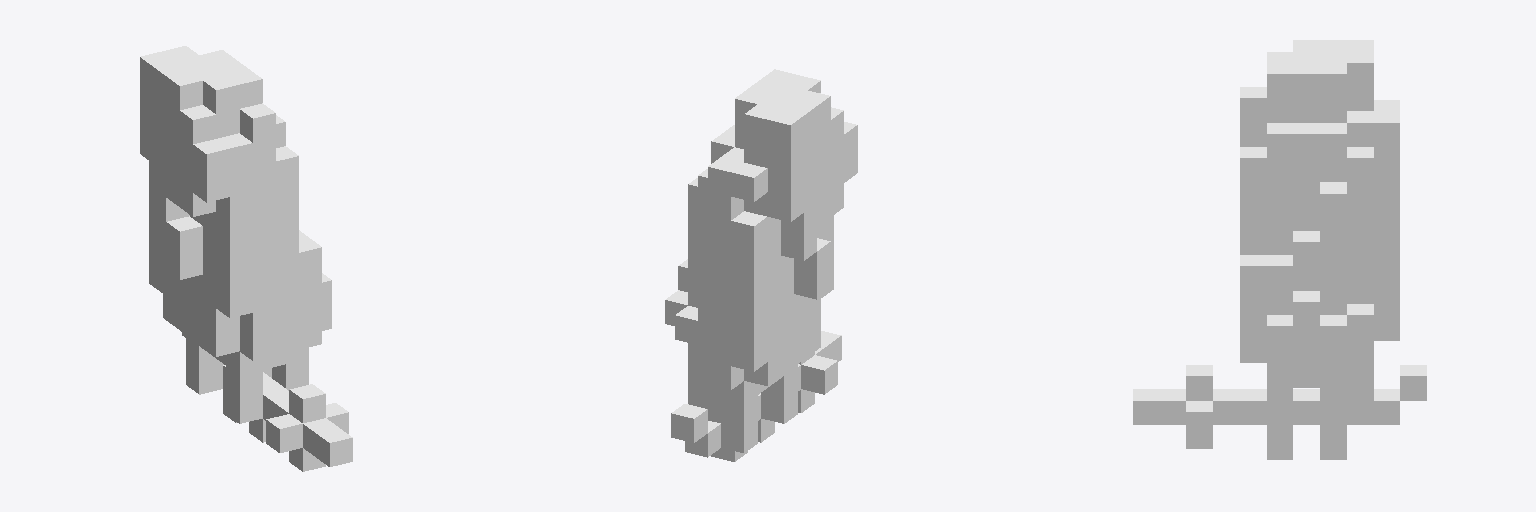
The model's file is vrach-4.obj.
The picture shows the model from 3 angles: view 1: azimuth 30°, elevation 25°; view 2: azimuth 150°, elevation 25°; view 3: azimuth 270°, elevation 25°; orthographic projection.
Parts seen in each view (by area): view 1: object 1; view 2: object 1; view 3: object 1.
Boxes of the visible parts, x1=… form: object 1: x1=140, y1=46, x2=352, y2=471; object 1: x1=665, y1=69, x2=857, y2=461; object 1: x1=1133, y1=40, x2=1426, y2=459.
Size of the model in its own units: 0.6 by 1.5 by 1.1.